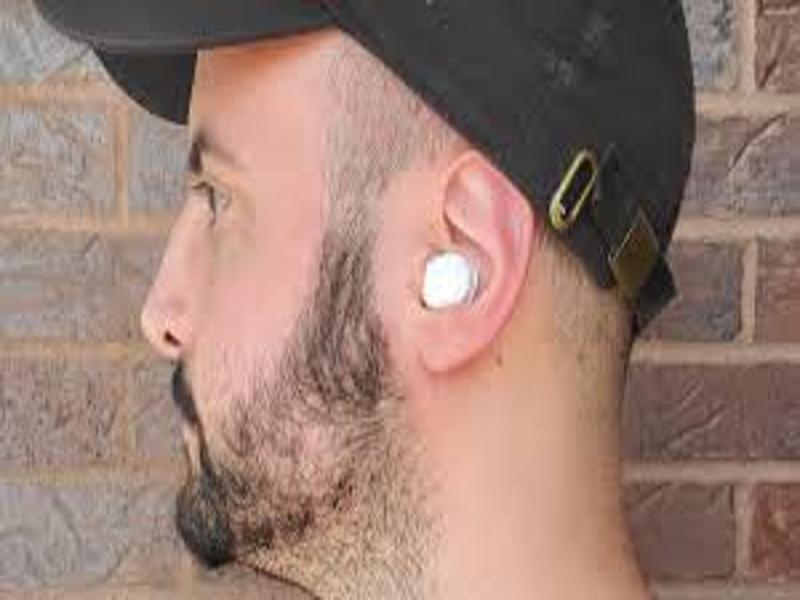headphone: (422, 249, 478, 312)
